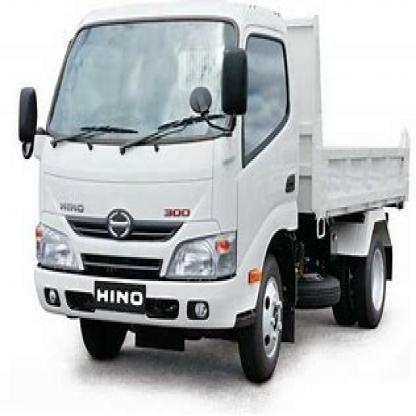dump_truck: (21, 17, 398, 390)
